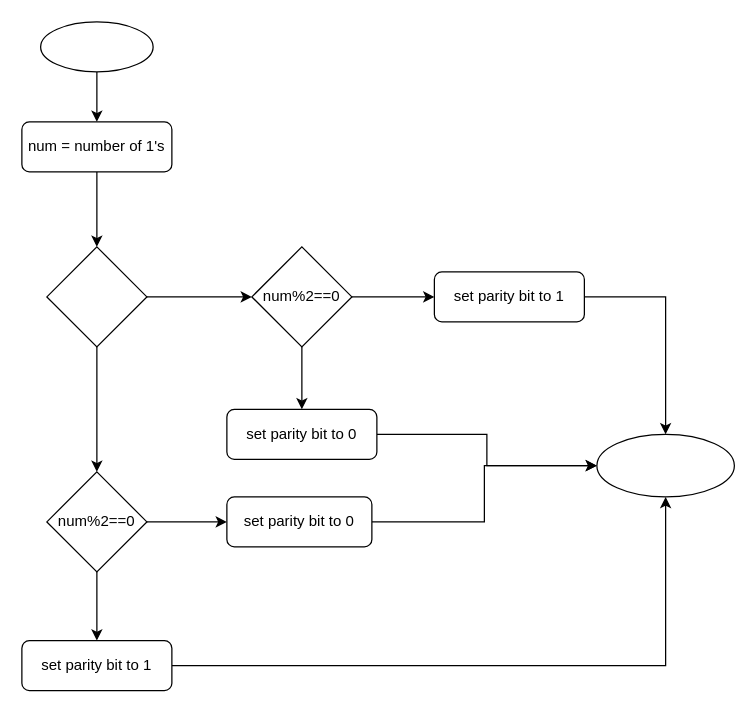
The diagram is 756 pixels wide and 713 high, and some of its shapes have lost their labels. The shapes that lost their labels are listed below. From the top down, each one's centre as x and y in pixels, then its label:
At (96,46): "Parity function".
At (96,296): "Type == odd".
At (665,465): "Return parity bit".
